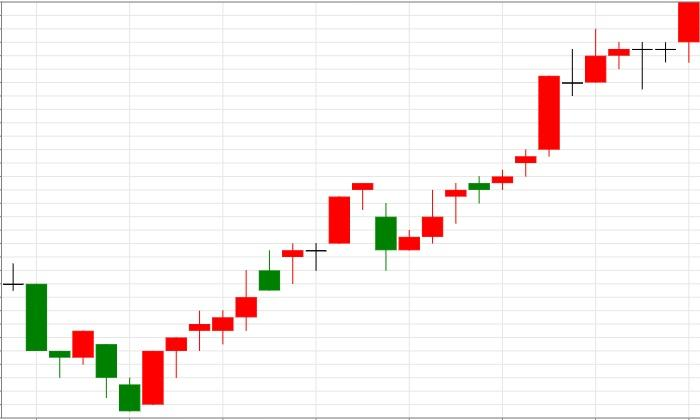evening_star_fall: (142, 183, 396, 405)
